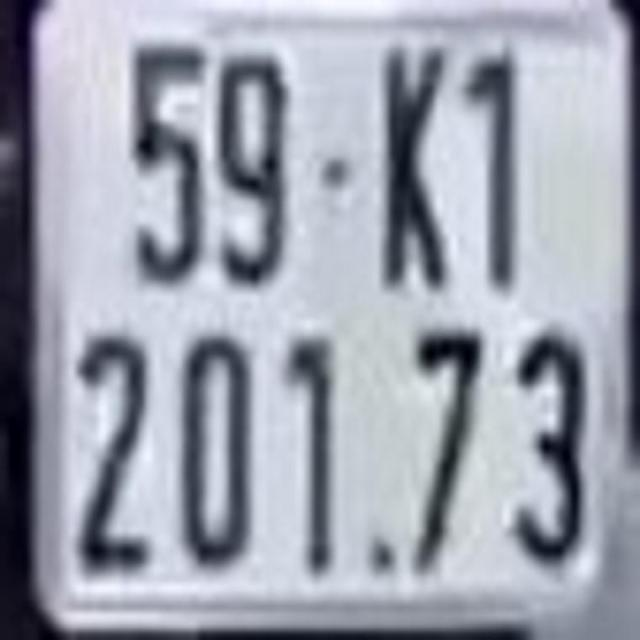0: (180, 338, 248, 561)
1: (464, 43, 516, 287), (282, 330, 333, 561)
2: (76, 332, 148, 570)
3: (520, 330, 586, 565)
5: (132, 43, 197, 272)
7: (412, 328, 480, 588)
9: (217, 55, 282, 282)
K: (384, 38, 451, 284)
